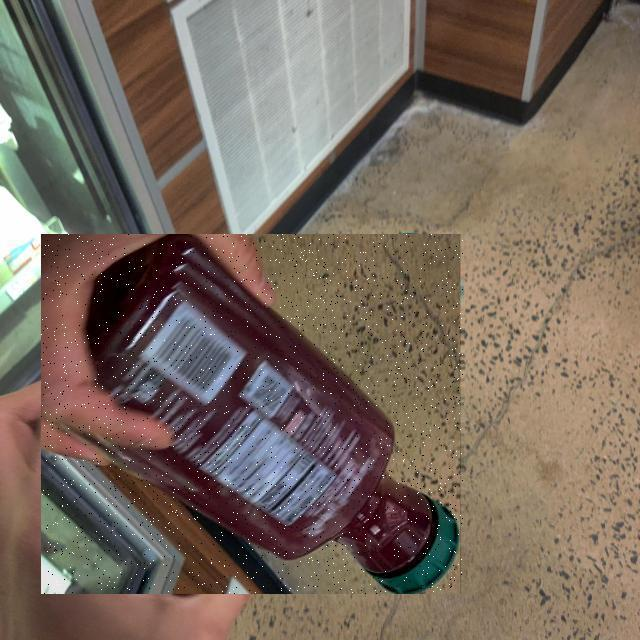Juice: (42, 234, 464, 594)
